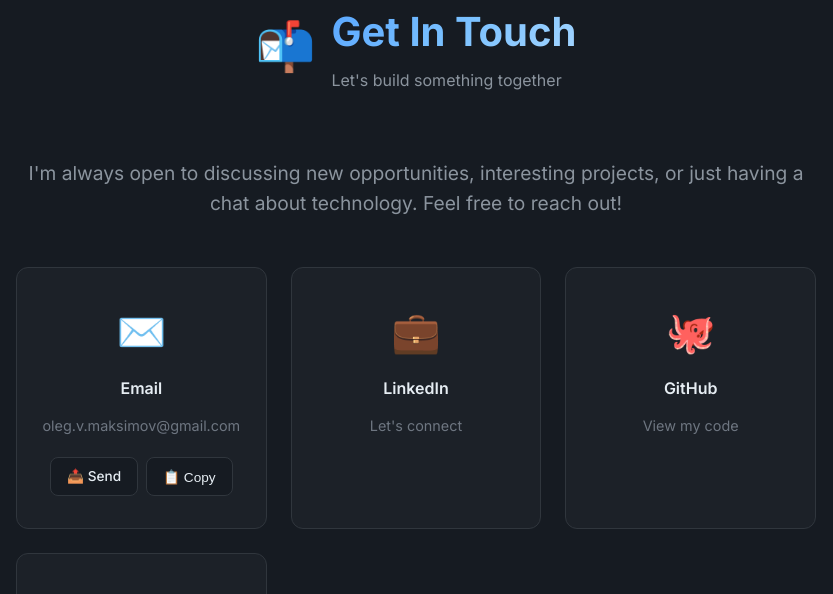
Test: Contact Component › copies email to clipboard when copy button clicked
Click the button "📋 Copy" at (189, 477), box [146, 457, 233, 496]
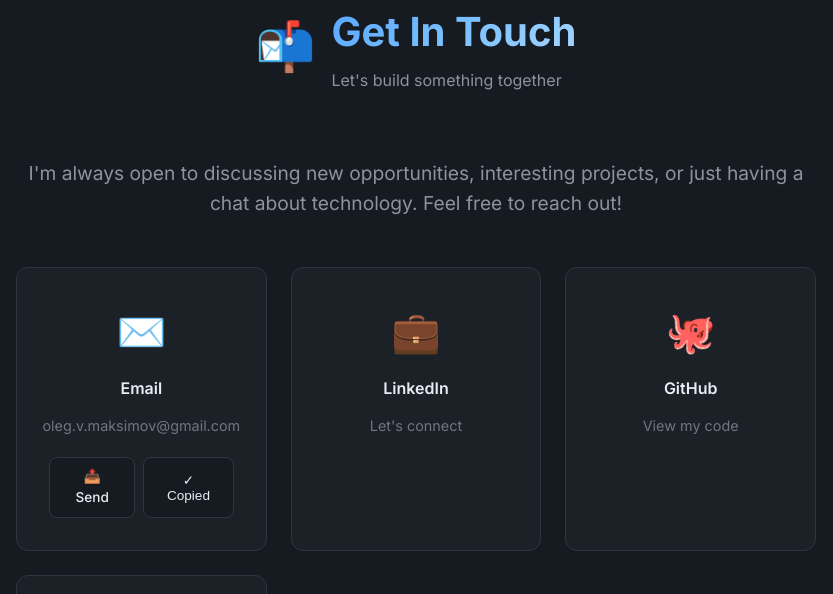
Check: the button "✓ Copied" is shown, box [143, 457, 234, 518]
